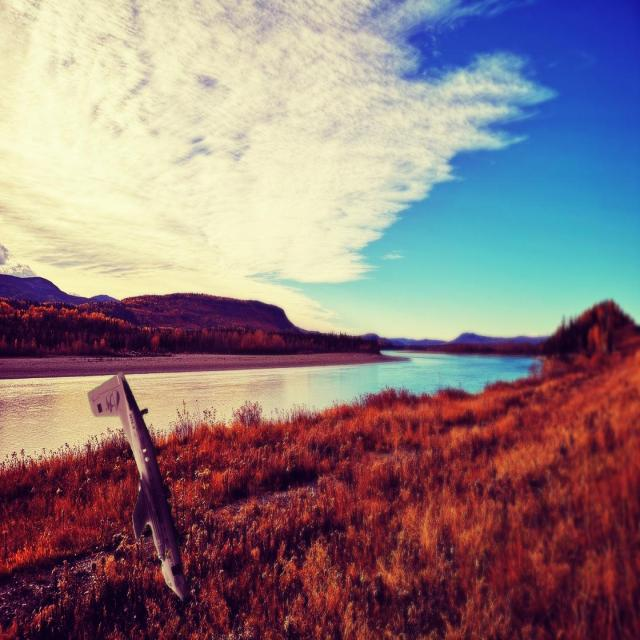airplane: (86, 370, 188, 602)
